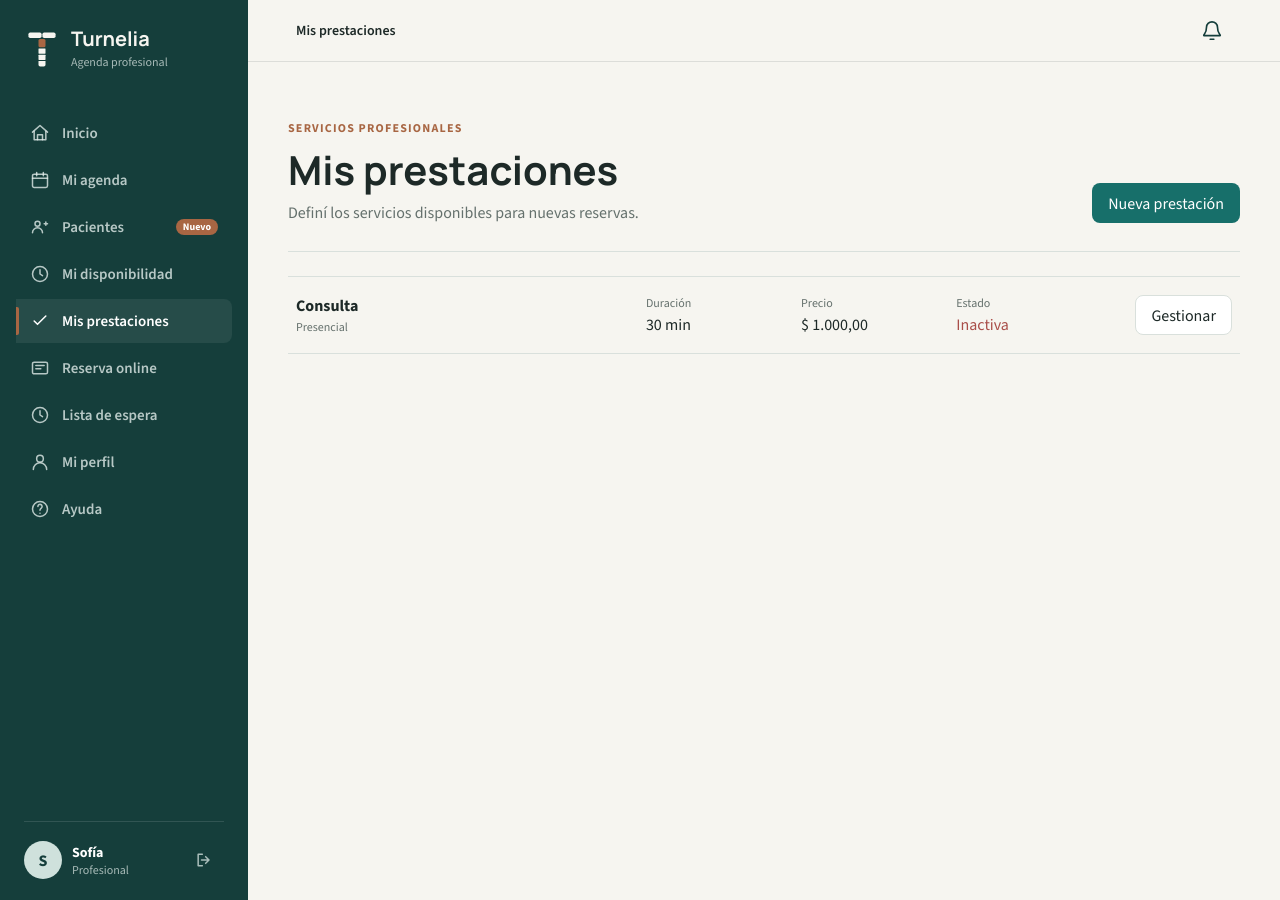
Test: Mis prestaciones › reactiva con la respuesta real y actualiza la fila
Click the button "Gestionar": (1184, 315) left=1135, top=295, right=1232, bottom=335
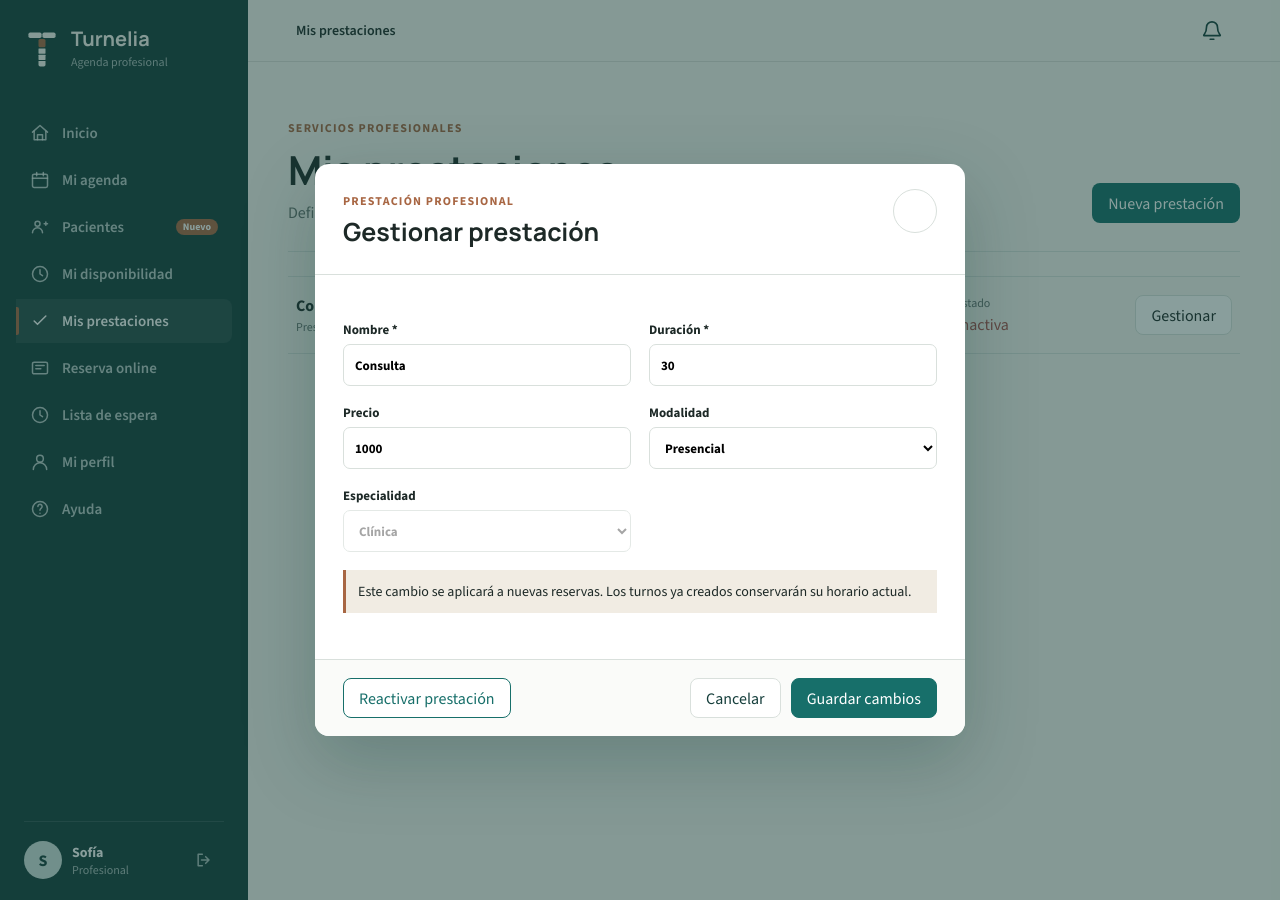
Click the button "Reactivar prestación": (427, 698) left=343, top=678, right=511, bottom=718
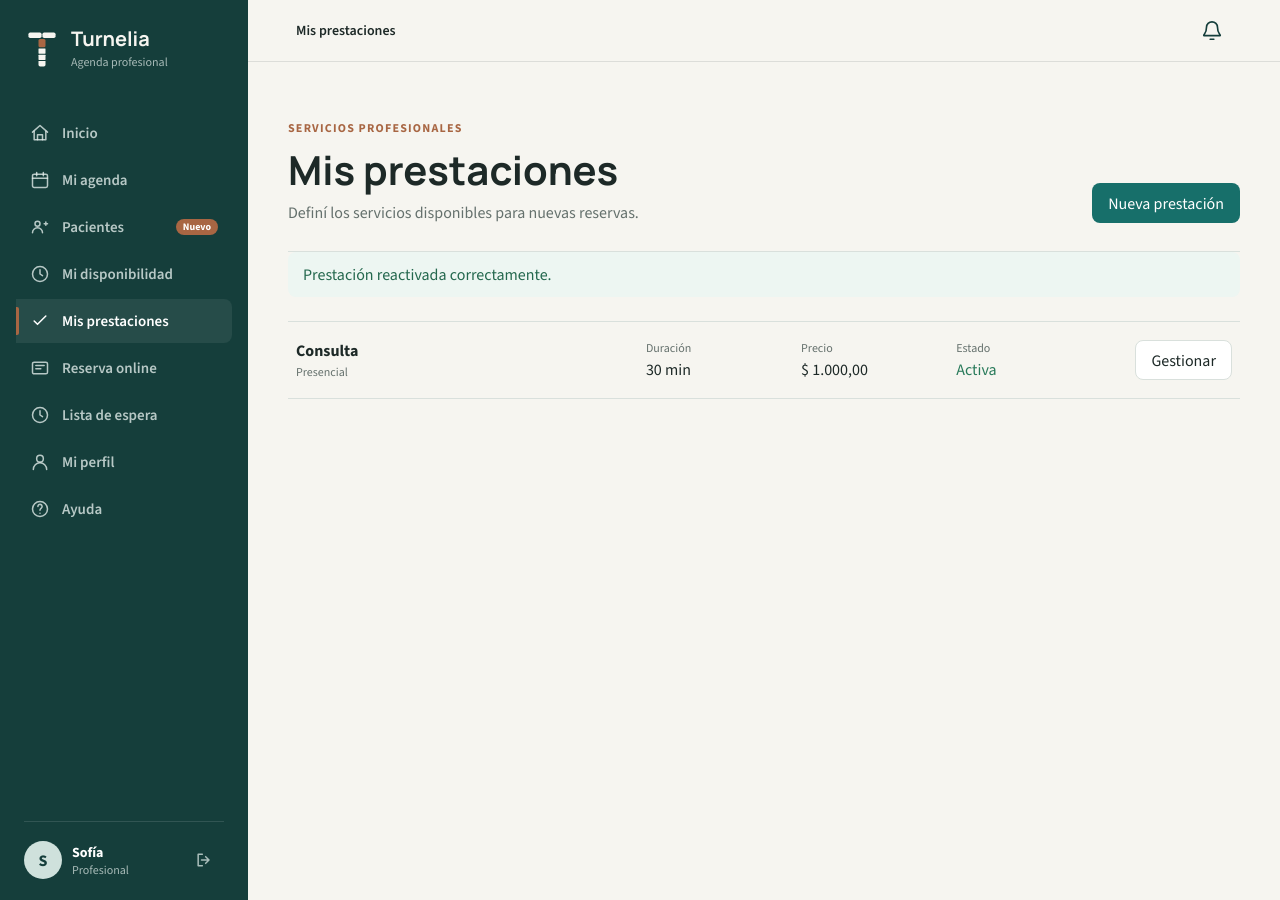
Expected: the text "Activa" is shown, left=956, top=359, right=997, bottom=380
Now the text "Prestación reactivada correctamente." is shown, box left=288, top=252, right=1240, bottom=297
